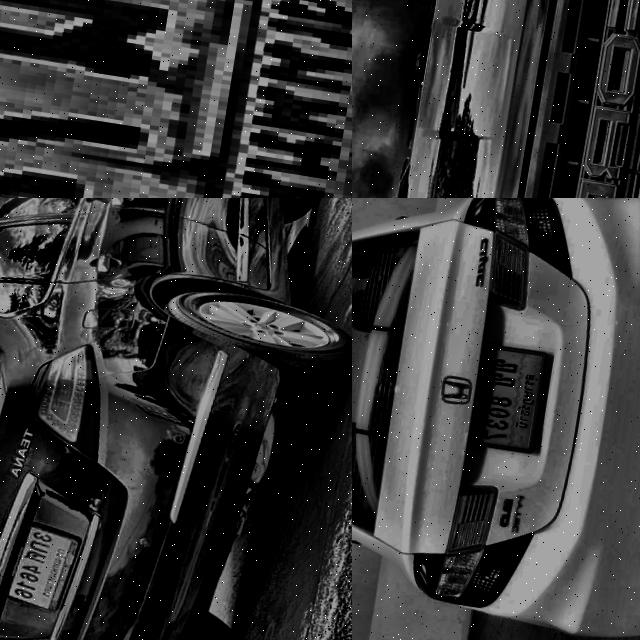license-plate: (0, 0, 352, 198), (458, 339, 560, 459), (2, 520, 84, 615)
